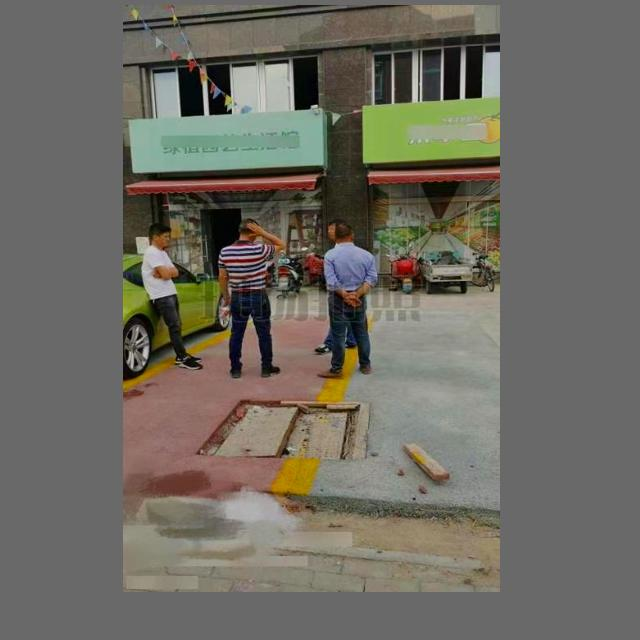circle: (203, 400, 369, 462)
